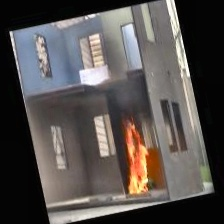fire: (113, 116, 164, 199)
